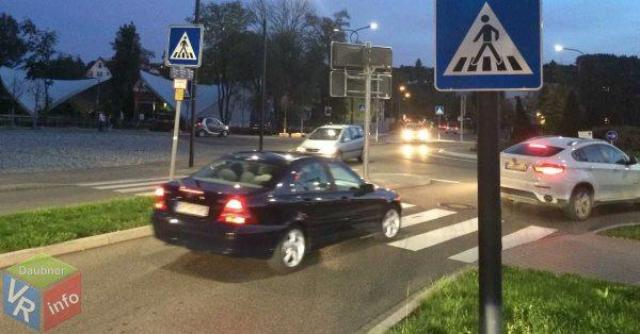crosswalk-sign: (435, 2, 544, 93), (167, 25, 204, 69)
